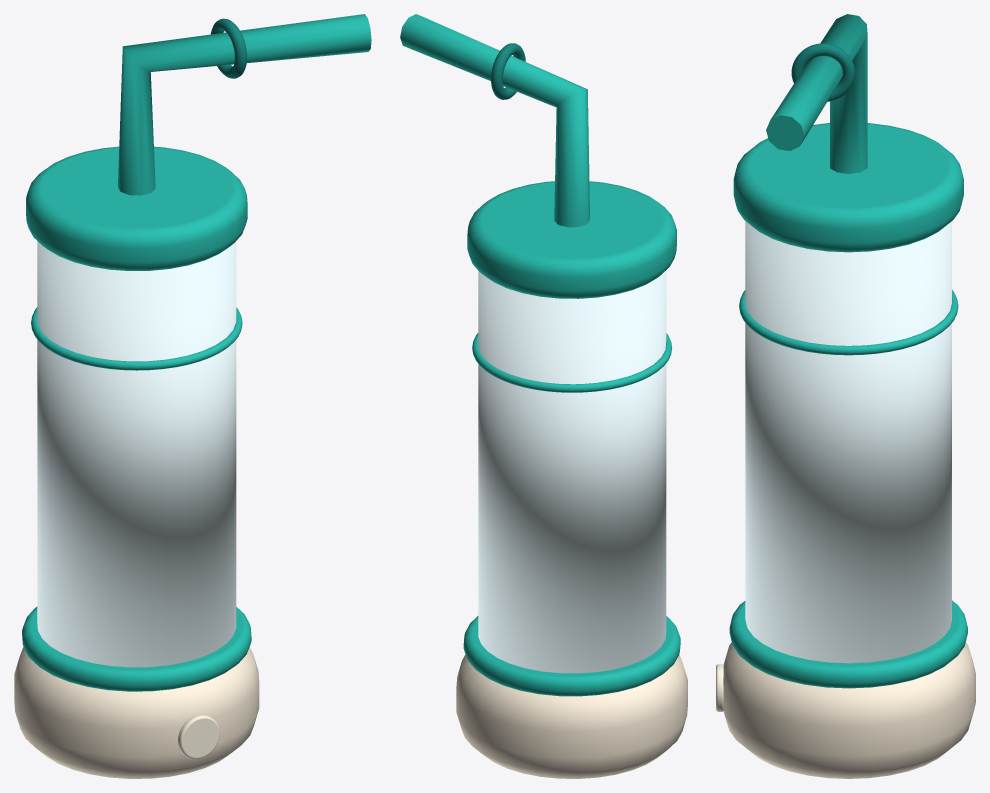
Rendered from VatBatch.fbx.
The picture shows the model from 3 angles, left to right: view 1: azimuth 30°, elevation 25°; view 2: azimuth 150°, elevation 25°; view 3: azimuth 270°, elevation 25°; orthographic projection. The views are drawn at different scales.
Visible parts, largest first — view 1: VatBatch mesh; view 2: VatBatch mesh; view 3: VatBatch mesh.
Boxes of the visible parts, x1=… form: VatBatch mesh: x1=14, y1=14, x2=371, y2=778; VatBatch mesh: x1=400, y1=14, x2=687, y2=778; VatBatch mesh: x1=716, y1=14, x2=975, y2=778.
Size of the model in its own units: 0.4664 by 1.02 by 0.327.
